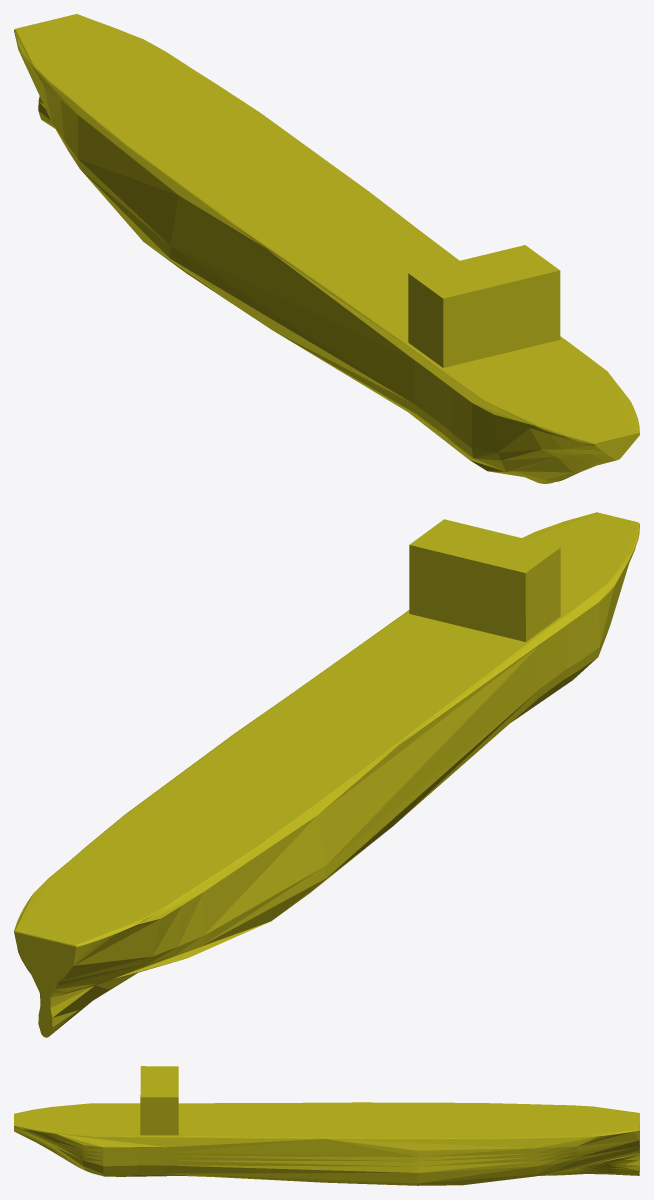
The model's file is esso_osaka.dae.
3 renders of one model, top to bottom at view 1: azimuth 30°, elevation 25°; view 2: azimuth 150°, elevation 25°; view 3: azimuth 270°, elevation 25°, orthographic. The views are drawn at different scales.
Visible parts, largest first — view 1: Esso_Osaka; view 2: Esso_Osaka; view 3: Esso_Osaka.
Part boxes in pixels (left/top/right/bottom): Esso_Osaka: left=14, top=14, right=639, bottom=483; Esso_Osaka: left=14, top=512, right=639, bottom=1037; Esso_Osaka: left=14, top=1066, right=639, bottom=1185.
Bounding box in the file's own units: 0.4725 × 3 × 0.4979.
